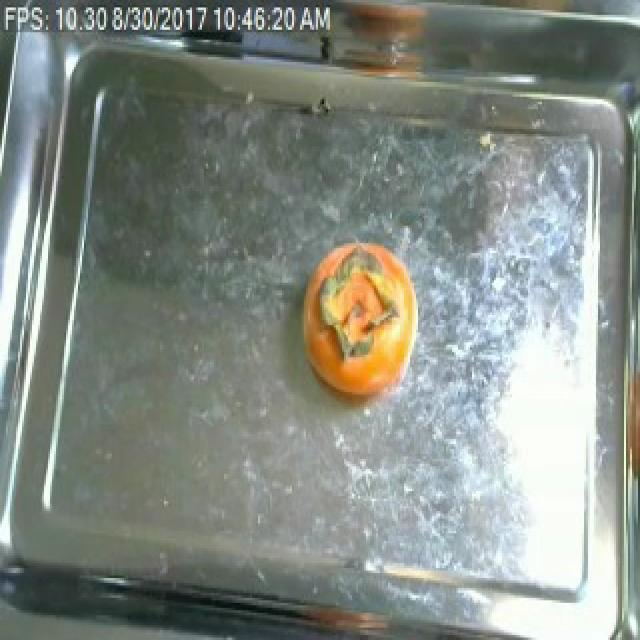Fruit: (294, 233, 428, 407), (338, 0, 436, 55)
